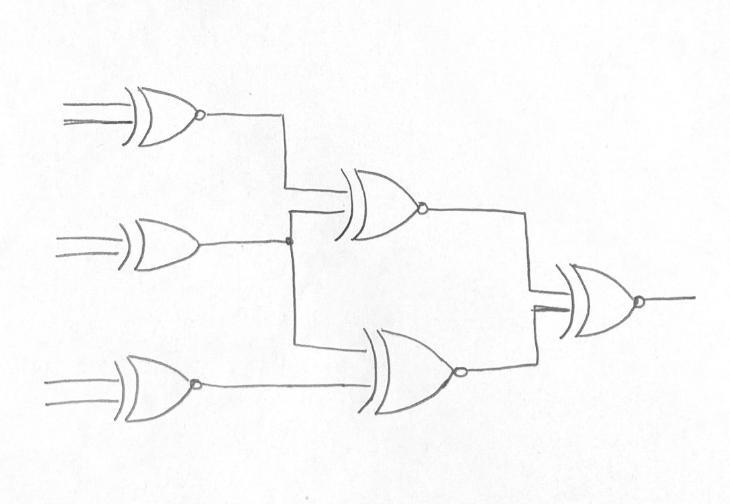XNOR: (351, 310, 481, 429), (328, 149, 451, 256), (99, 347, 228, 433), (550, 253, 658, 350), (109, 72, 224, 157)
XOR: (106, 207, 224, 294)
